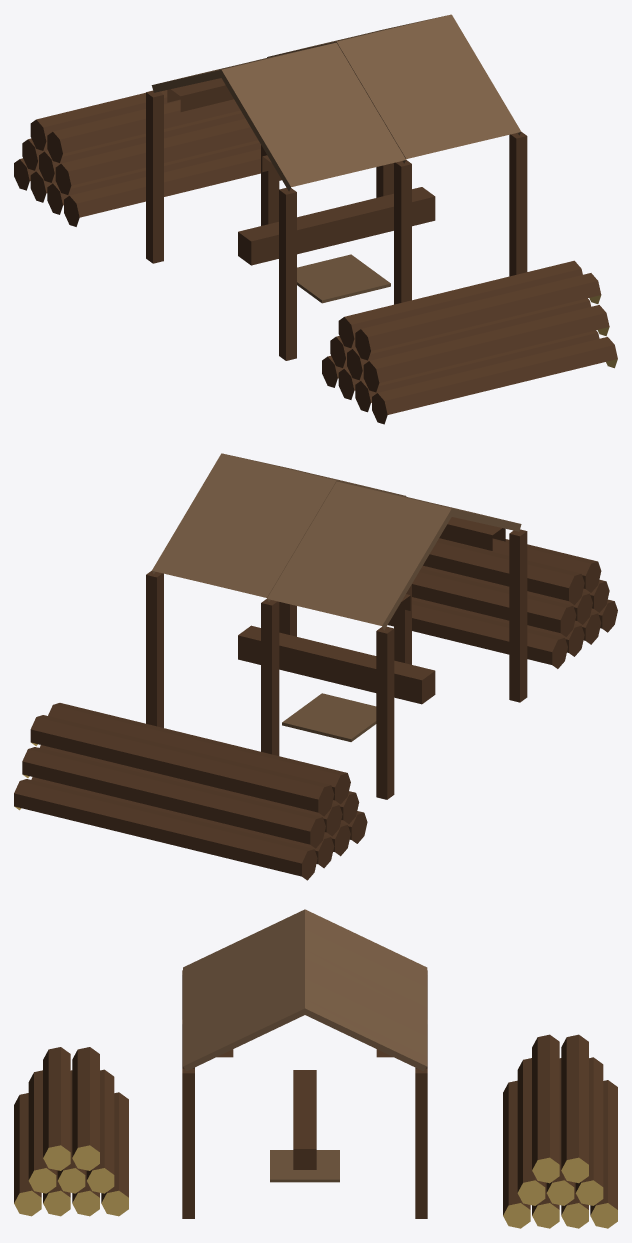
File: timber_yard.obj
The picture shows the model from 3 angles, top to bottom: view 1: azimuth 30°, elevation 25°; view 2: azimuth 150°, elevation 25°; view 3: azimuth 270°, elevation 25°; orthographic projection. The views are drawn at different scales.
Size of the model in its own units: 5 by 3.96 by 10.38.
